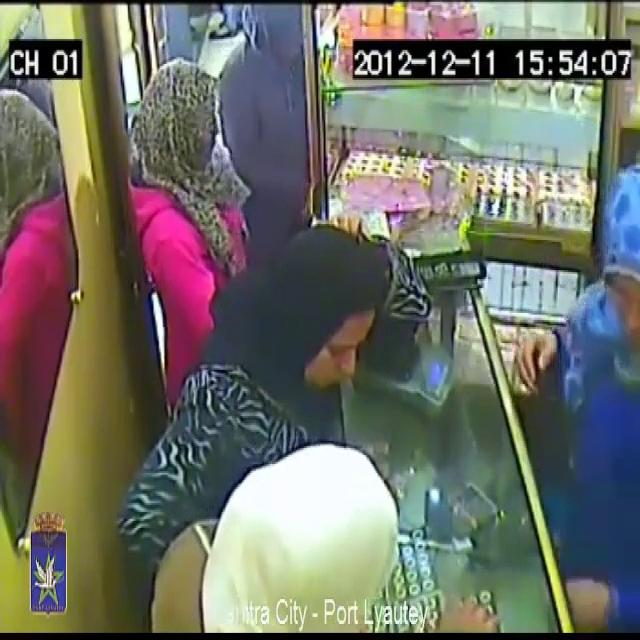normal: (503, 73, 640, 640), (165, 433, 406, 640), (131, 49, 243, 314), (257, 218, 388, 436), (223, 0, 323, 188)
